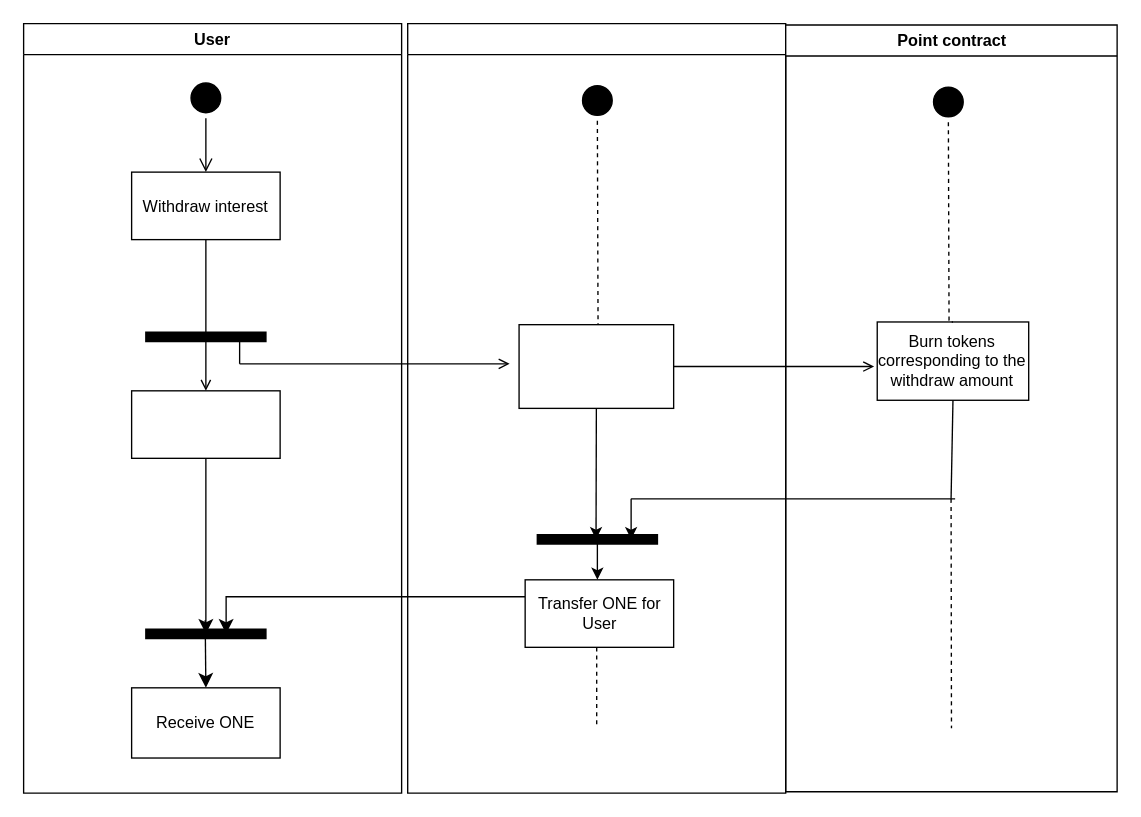
This 1141x817 diagram has some shape labels left out. Each missing label, with the box of its shape:
Calculates the amount of One withdrawn according to the tokens staking: (518, 323, 674, 408)
Market contract: (406, 22, 786, 793)
Sign transaction: (130, 389, 280, 458)
